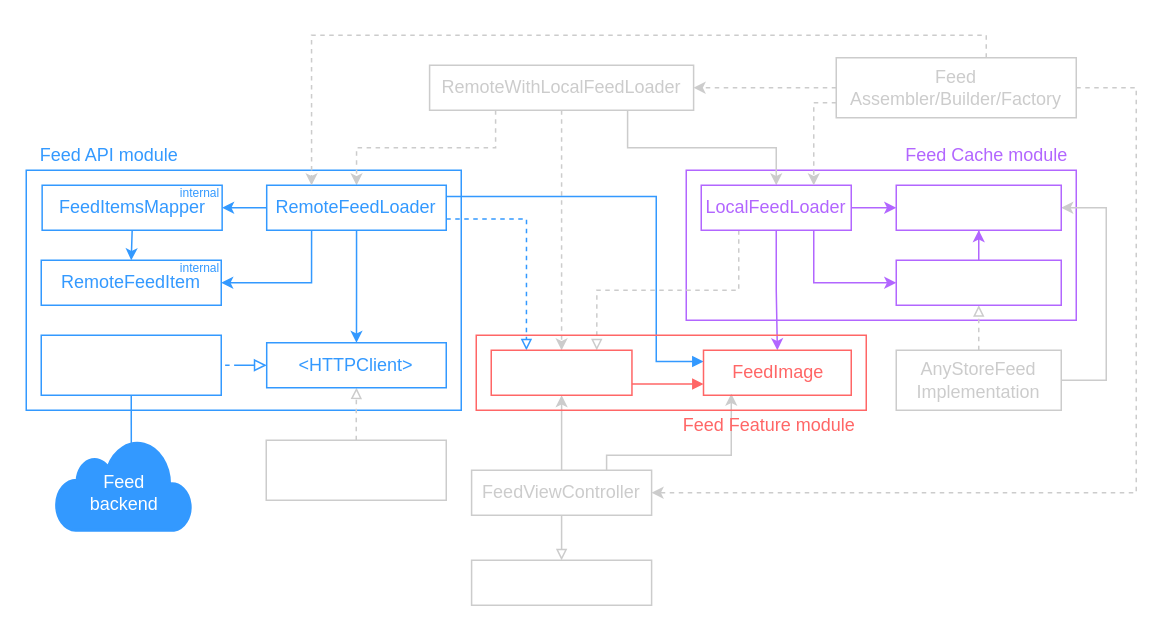
Image size: 1173x632. Some labels were removed from this diagram. Each missing label, with the centre of its shape:
<StoreFeed>: pixel 978 282
AnyHTTPClient Implementation: pixel 355 469
FeedLoader: pixel 561 372
LocalFeedImage: pixel 978 207
UIViewController: pixel 561 582
URLSession HTTPClient: pixel 130 364
